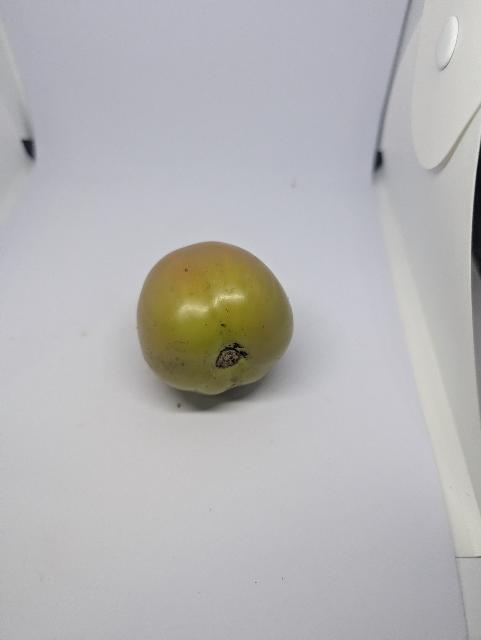breaker: (138, 240, 299, 397)
